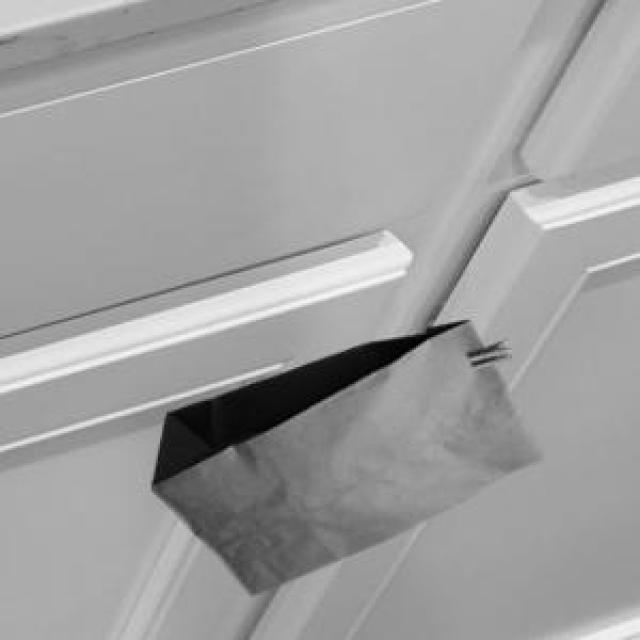paper: (147, 316, 540, 591)
